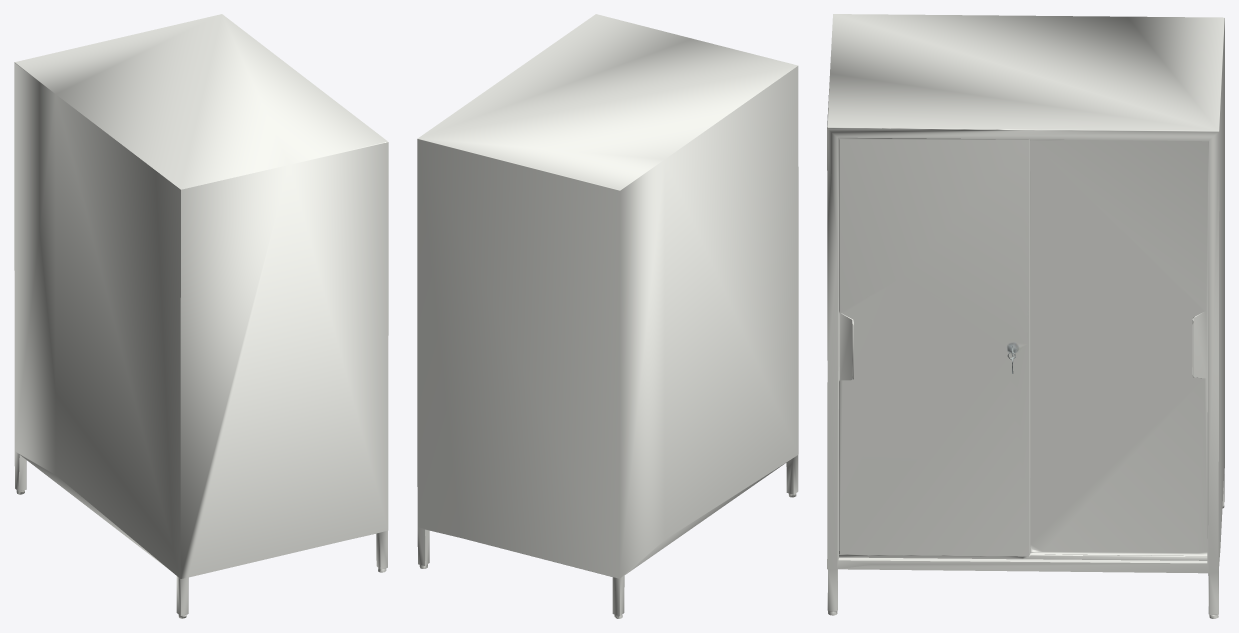
File: cabinet2.fbx
3 views of the same model, side by side, from view 1: azimuth 30°, elevation 25°; view 2: azimuth 150°, elevation 25°; view 3: azimuth 270°, elevation 25° (orthographic). The views are drawn at different scales.
Visible parts, largest first — view 1: TROTTEN_604.747.60; view 2: TROTTEN_604.747.60; view 3: TROTTEN_604.747.60.
Part boxes in pixels (<box>): TROTTEN_604.747.60: <box>14,14,388,618</box>; TROTTEN_604.747.60: <box>417,14,798,618</box>; TROTTEN_604.747.60: <box>827,14,1224,618</box>.
Size of the model in its own units: 113 by 213 by 157.
1 material, 1 textured.
